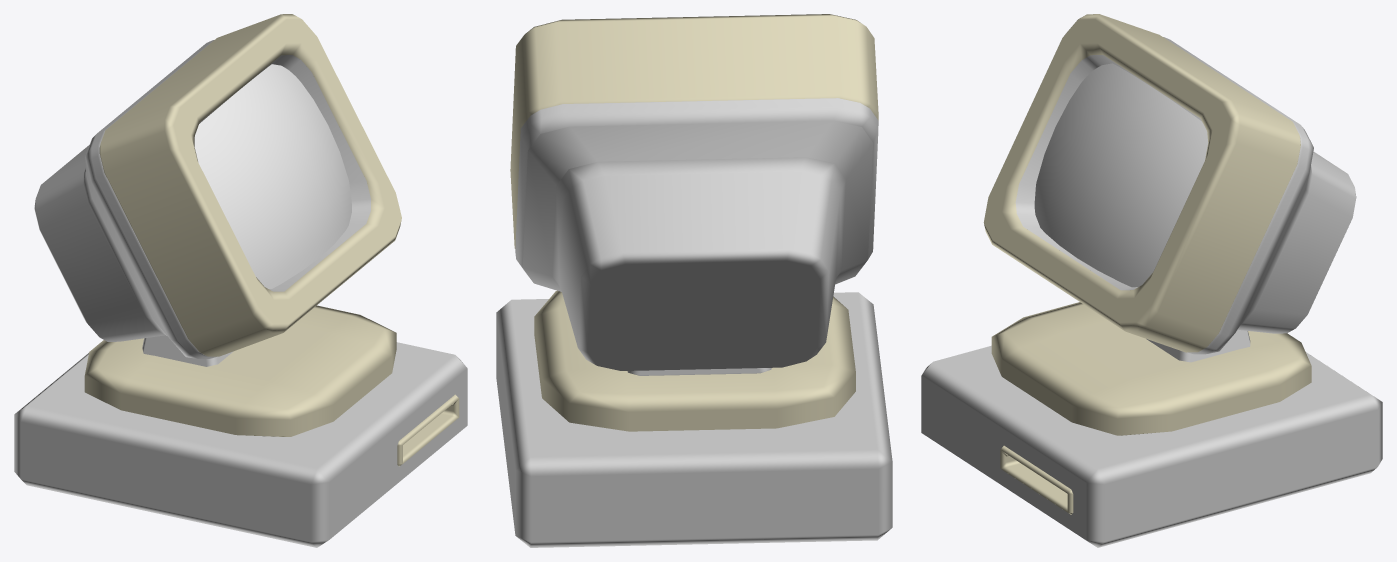
The model's file is computer2.glb.
3 views of the same model, side by side, from view 1: azimuth 30°, elevation 25°; view 2: azimuth 150°, elevation 25°; view 3: azimuth 270°, elevation 25° (orthographic). The views are drawn at different scales.
Parts seen in each view (by area): view 1: Cube, Cube.001, Cube.003, screen, Cube.002, Cube.005, Cube.004; view 2: Cube.002, Cube, Cube.001, Cube.003, Cube.004; view 3: Cube, Cube.001, screen, Cube.003, Cube.002, Cube.005, Cube.004.
Boxes of the visible parts, left/top/right/bottom form: Cube: left=14, top=342, right=467, bottom=547; Cube.001: left=99, top=14, right=401, bottom=356; Cube.003: left=84, top=305, right=396, bottom=436; screen: left=194, top=64, right=351, bottom=288; Cube.002: left=34, top=40, right=216, bottom=358; Cube.005: left=397, top=394, right=459, bottom=466; Cube.004: left=142, top=335, right=233, bottom=366; Cube.002: left=515, top=98, right=878, bottom=370; Cube: left=496, top=292, right=892, bottom=547; Cube.001: left=510, top=14, right=878, bottom=248; Cube.003: left=534, top=290, right=855, bottom=431; Cube.004: left=627, top=368, right=771, bottom=375; Cube: left=921, top=345, right=1382, bottom=547; Cube.001: left=983, top=14, right=1300, bottom=352; screen: left=1034, top=63, right=1208, bottom=287; Cube.003: left=991, top=302, right=1311, bottom=435; Cube.002: left=1163, top=37, right=1356, bottom=354; Cube.005: left=1000, top=445, right=1073, bottom=514; Cube.004: left=1146, top=329, right=1250, bottom=362.
Size of what is drawn, in the model's own units: 4.29 by 4.13 by 4.37.
